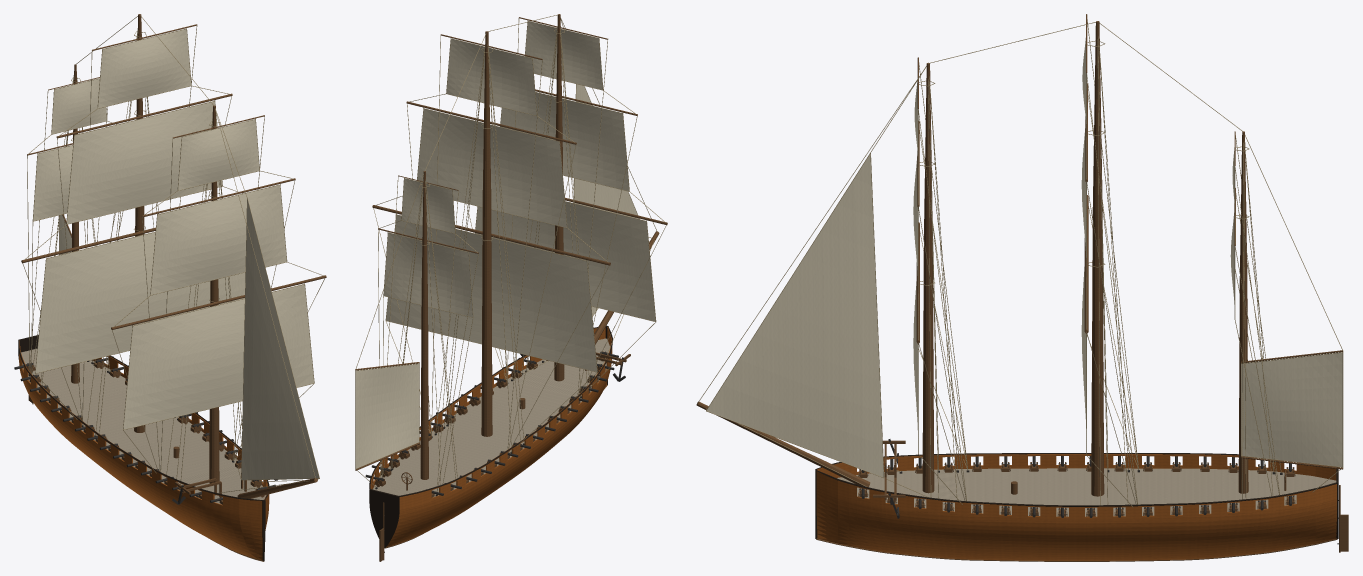
3 views of the same model, side by side, from view 1: azimuth 30°, elevation 25°; view 2: azimuth 150°, elevation 25°; view 3: azimuth 270°, elevation 25° (orthographic). The views are drawn at different scales.
Parts seen in each view (by area): view 1: lod2_fore_square_00, lod2_main_square_00, lod2_jib_00, lod2_main_square_01, lod2_main_deck, lod2_fore_square_01, lod2_hull_shell_starboard, lod2_main_square_02, lod2_fore_square_02, lod2_mizzen_square_00, lod2_mizzen_square_01, lod2_fore (+10 smaller); view 2: lod2_main_square_00, lod2_main_square_01, lod2_main_deck, lod2_fore_square_00, lod2_hull_shell_starboard, lod2_fore_square_01, lod2_mizzen_gaff_02, lod2_mizzen_square_00, lod2_main_square_02, lod2_main, lod2_fore_square_02, lod2_mizzen (+12 smaller); view 3: lod2_jib_00, lod2_hull_shell_port, lod2_main_deck, lod2_mizzen_gaff_02, lod2_main, lod2_hull_shell_starboard, lod2_fore, lod2_mizzen, lod2_gunwale_port, lod2_bowsprit, lod2_keel.
Part boxes in pixels (x1,y1,x2,y2): lod2_fore_square_00: [123, 284, 313, 429]; lod2_main_square_00: [35, 232, 245, 372]; lod2_jib_00: [241, 200, 319, 479]; lod2_main_square_01: [67, 101, 222, 223]; lod2_main_deck: [21, 348, 266, 504]; lod2_fore_square_01: [151, 185, 286, 294]; lod2_hull_shell_starboard: [19, 340, 262, 560]; lod2_main_square_02: [98, 29, 191, 108]; lod2_fore_square_02: [178, 119, 259, 190]; lod2_mizzen_square_00: [33, 145, 72, 220]; lod2_mizzen_square_01: [51, 78, 106, 133]; lod2_fore: [209, 105, 219, 483]; lod2_main_square_00: [386, 215, 597, 371]; lod2_main_square_01: [417, 109, 566, 227]; lod2_main_deck: [373, 338, 609, 496]; lod2_fore_square_00: [475, 201, 655, 321]; lod2_hull_shell_starboard: [386, 327, 612, 547]; lod2_fore_square_01: [500, 92, 629, 190]; lod2_mizzen_gaff_02: [356, 364, 418, 468]; lod2_mizzen_square_00: [384, 233, 472, 317]; lod2_main_square_02: [446, 39, 536, 115]; lod2_main: [481, 31, 492, 436]; lod2_fore_square_02: [525, 21, 602, 89]; lod2_mizzen: [420, 171, 428, 479]; lod2_jib_00: [707, 154, 883, 477]; lod2_hull_shell_port: [816, 471, 1336, 560]; lod2_main_deck: [837, 468, 1336, 516]; lod2_mizzen_gaff_02: [1241, 352, 1342, 466]; lod2_main: [1091, 21, 1104, 496]; lod2_hull_shell_starboard: [817, 454, 1336, 480]; lod2_fore: [922, 62, 934, 493]; lod2_mizzen: [1238, 131, 1248, 493]; lod2_gunwale_port: [816, 470, 1337, 506]; lod2_bowsprit: [696, 401, 870, 487]; lod2_keel: [816, 538, 1337, 561].
Bounding box in the file's own units: 25.92 × 48.07 × 52.57.
Materials: 7 (7 with a texture image).
